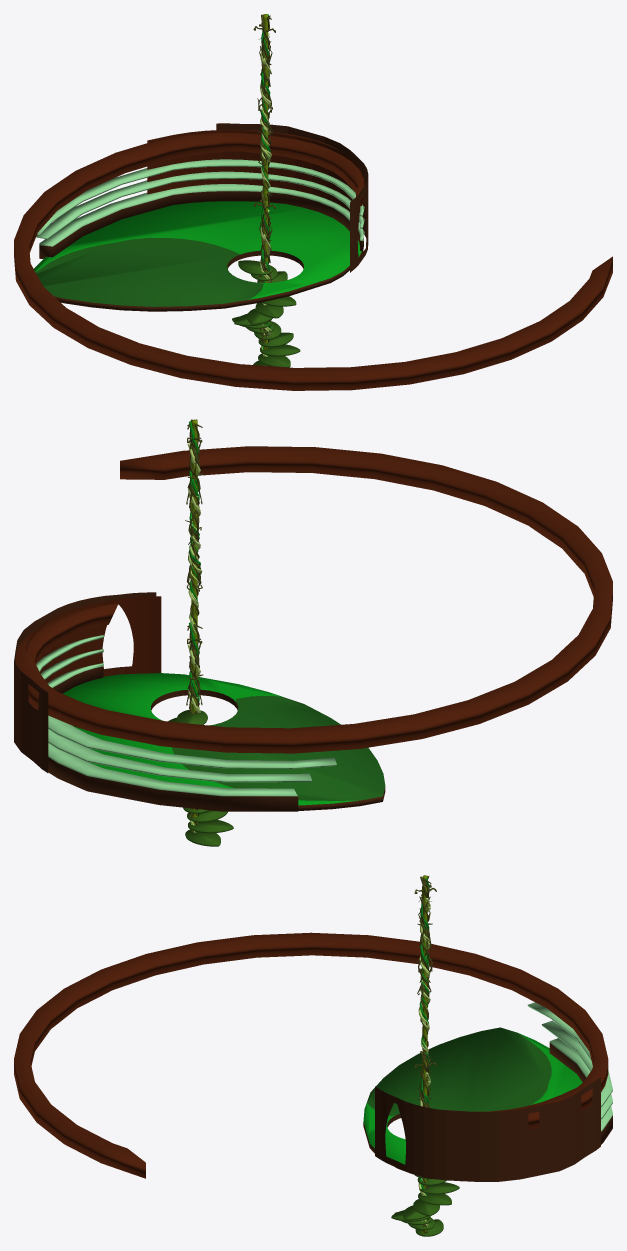
Rendered from ShelvsLvl3.fbx.
3 renders of one model, top to bottom at view 1: azimuth 30°, elevation 25°; view 2: azimuth 150°, elevation 25°; view 3: azimuth 270°, elevation 25°, orthographic. The views are drawn at different scales.
Parts seen in each view (by area): view 1: Floor.Platform.Lvl3, Walls.003, Shelves.Lvl3, CurveWalls.001, Cylinder.017, ShelfWall.Lvl3.003, Plane.013, Plane.009; view 2: Walls.003, Floor.Platform.Lvl3, Shelves.Lvl3, CurveWalls.001, ShelfWall.Lvl3.003, Cylinder.017, Plane.013, Plane.009, Plane.015; view 3: Walls.003, ShelfWall.Lvl3.003, Floor.Platform.Lvl3, Shelves.Lvl3, Cylinder.017, Plane.013, Plane.009.
Part boxes in pixels (left/top/right/bottom): Floor.Platform.Lvl3: left=34, top=201, right=363, bottom=311; Walls.003: left=14, top=129, right=612, bottom=390; Shelves.Lvl3: left=36, top=159, right=364, bottom=258; CurveWalls.001: left=147, top=130, right=363, bottom=257; Cylinder.017: left=232, top=260, right=300, bottom=367; ShelfWall.Lvl3.003: left=216, top=123, right=368, bottom=272; Plane.013: left=253, top=14, right=275, bottom=200; Plane.009: left=253, top=190, right=275, bottom=356; Walls.003: left=15, top=446, right=612, bottom=753; Floor.Platform.Lvl3: left=63, top=673, right=385, bottom=810; Shelves.Lvl3: left=36, top=635, right=336, bottom=811; CurveWalls.001: left=26, top=596, right=161, bottom=682; ShelfWall.Lvl3.003: left=14, top=592, right=156, bottom=772; Cylinder.017: left=168, top=709, right=233, bottom=846; Plane.013: left=185, top=419, right=203, bottom=632; Plane.009: left=186, top=624, right=203, bottom=832; Plane.015: left=187, top=443, right=202, bottom=633; Walls.003: left=14, top=932, right=608, bottom=1178; ShelfWall.Lvl3.003: left=375, top=1077, right=600, bottom=1181; Floor.Platform.Lvl3: left=363, top=1027, right=582, bottom=1181; Shelves.Lvl3: left=527, top=1002, right=612, bottom=1144; Cylinder.017: left=391, top=1175, right=459, bottom=1236; Plane.013: left=414, top=876, right=436, bottom=1052; Plane.009: left=414, top=1050, right=436, bottom=1233.
Bounding box in the file's own units: 2824 × 2064 × 3108.
